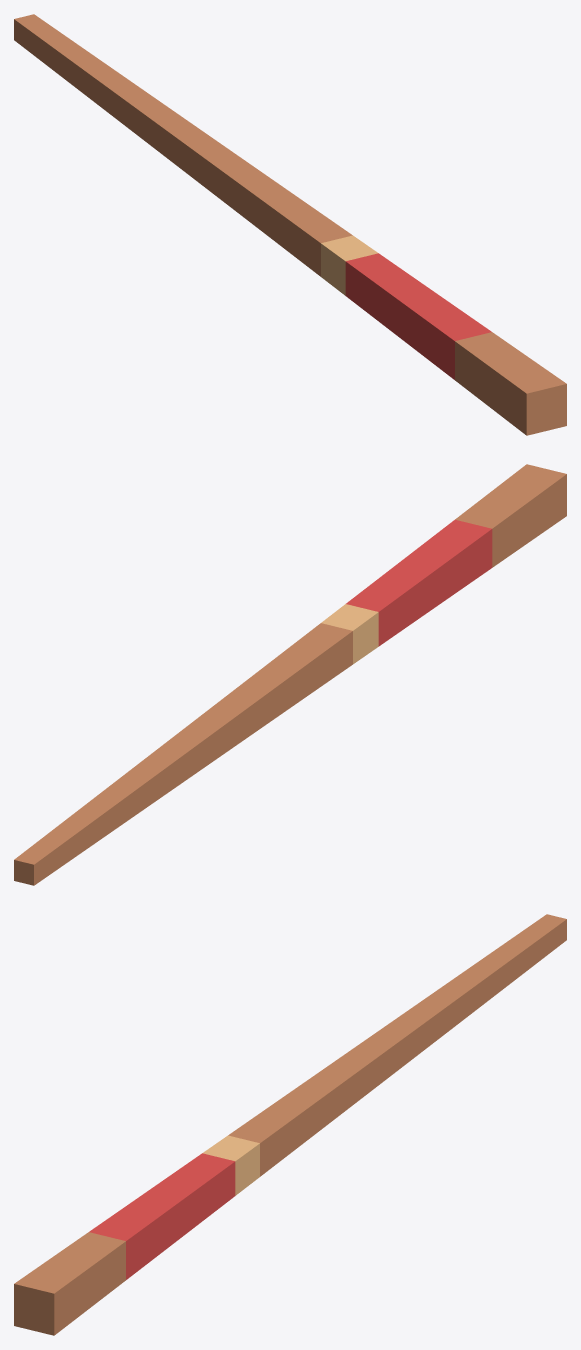
The model's file is chopstickFancy.obj.
3 renders of one model, top to bottom at view 1: azimuth 30°, elevation 25°; view 2: azimuth 150°, elevation 25°; view 3: azimuth 330°, elevation 25°, orthographic.
Visible parts, largest first — view 1: chopstickFancy; view 2: chopstickFancy; view 3: chopstickFancy.
Part boxes in pixels (left/top/right/bottom): chopstickFancy: left=14, top=14, right=566, bottom=435; chopstickFancy: left=14, top=464, right=566, bottom=885; chopstickFancy: left=14, top=914, right=566, bottom=1335.
Size of the model in its own units: 0.02 by 0.02 by 0.45.
